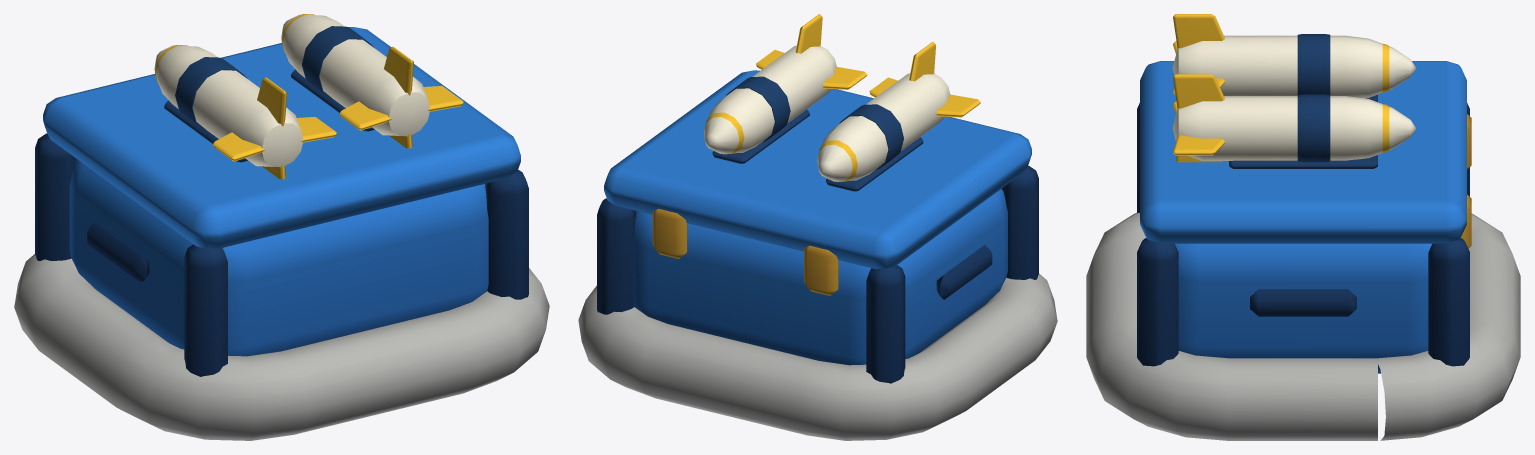
File: pickup-gun.glb
3 views of the same model, side by side, from view 1: azimuth 30°, elevation 25°; view 2: azimuth 150°, elevation 25°; view 3: azimuth 270°, elevation 25° (orthographic). The views are drawn at different scales.
Visible parts, largest first — view 1: pickup-gun Kestrel sky, pickup-gun Warm white, pickup-gun Kestrel navy, pickup-gun Sunflower; view 2: pickup-gun Kestrel sky, pickup-gun Warm white, pickup-gun Kestrel navy, pickup-gun Sunflower, pickup-gun Brass; view 3: pickup-gun Warm white, pickup-gun Kestrel sky, pickup-gun Kestrel navy, pickup-gun Sunflower, pickup-gun Brass.
Part boxes in pixels (x1,y1,x2,y2): pickup-gun Kestrel sky: (43, 27, 520, 356); pickup-gun Warm white: (14, 14, 549, 440); pickup-gun Kestrel navy: (35, 26, 528, 376); pickup-gun Sunflower: (155, 14, 463, 179); pickup-gun Kestrel sky: (604, 70, 1031, 365); pickup-gun Warm white: (578, 45, 1057, 440); pickup-gun Kestrel navy: (597, 76, 1038, 383); pickup-gun Sunflower: (704, 14, 980, 181); pickup-gun Brass: (652, 208, 838, 295); pickup-gun Warm white: (1086, 35, 1520, 440); pickup-gun Kestrel sky: (1140, 61, 1466, 373); pickup-gun Kestrel navy: (1137, 34, 1469, 366); pickup-gun Sunflower: (1173, 14, 1389, 162); pickup-gun Brass: (1461, 114, 1471, 248).
Size of the model in its own units: 1.6 by 1.14 by 1.46.
5 materials, 5 textured.
